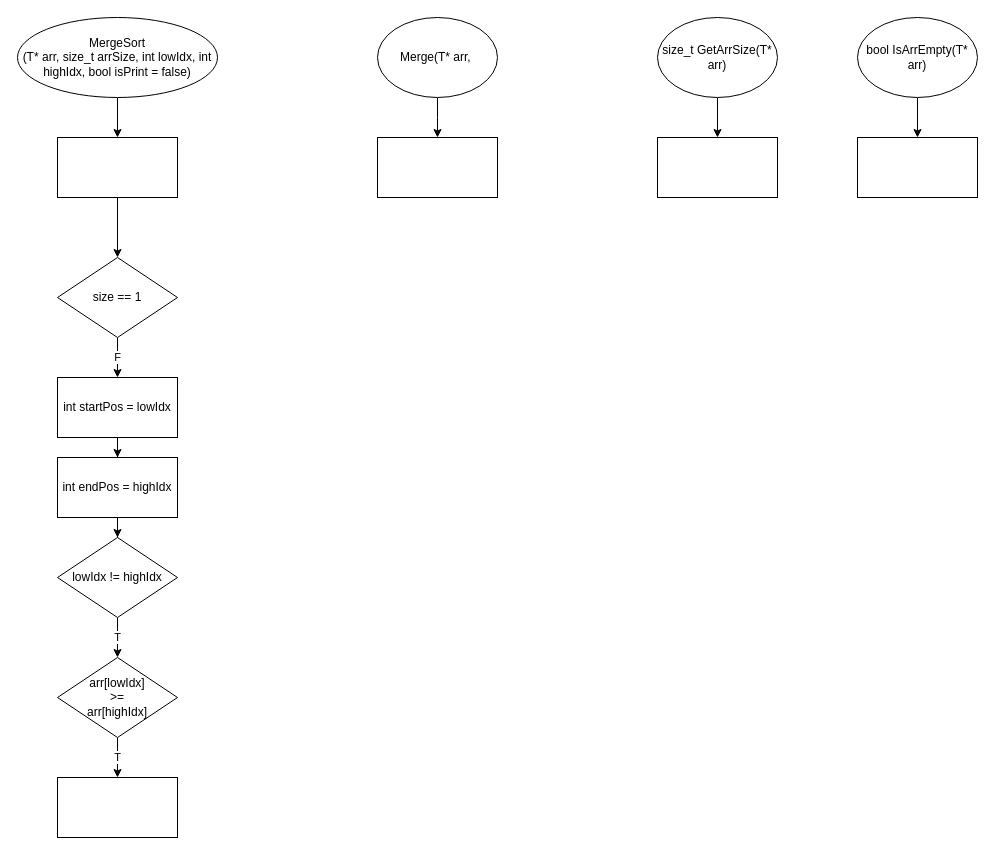
The diagram is 995 pixels wide and 855 high, and some of its shapes have lost their labels. The shapes that lost their labels are listed below. From the top down, each one's centre as x and y in pixels, then its label:
At (x=117, y=167): "int size = arrSize / 2".
At (x=437, y=167): "const int".
At (x=717, y=167): "return sizeof (a) / sizeof ( T )".
At (x=917, y=167): "return ( sizeof (a) / sizeof ( T )) == 0".
At (x=117, y=807): "swap(arr[lowIdx], arr[highIdx] )".
